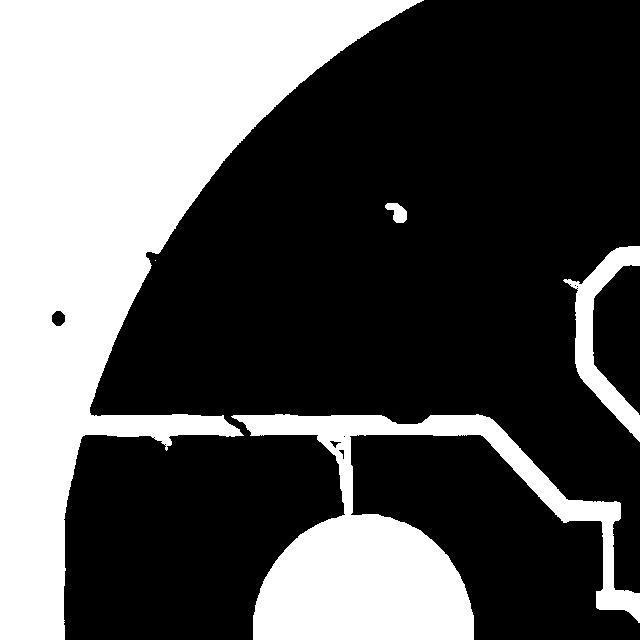copper: (42, 301, 74, 335)
mousebite: (141, 423, 181, 460), (553, 269, 596, 303)
open: (307, 424, 362, 525)
pin-hole: (375, 193, 416, 232)
short: (214, 403, 260, 446)
spur: (366, 396, 439, 433), (136, 242, 171, 279)
